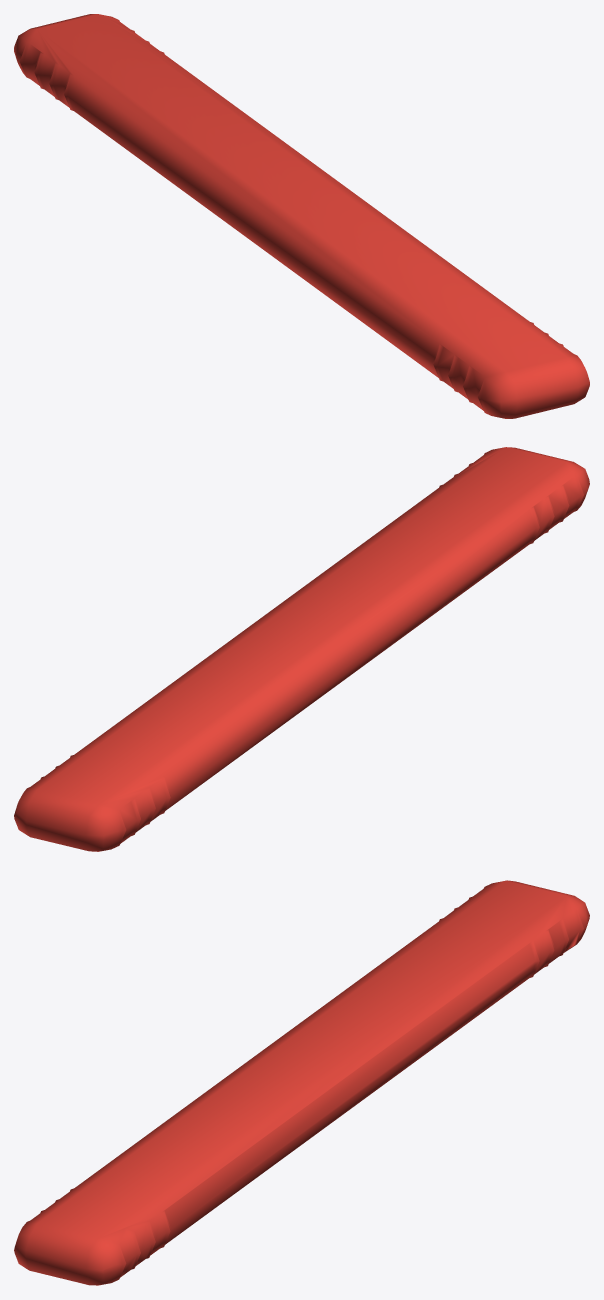
File: shore_spade_handle_lod2.glb
The picture shows the model from 3 angles, top to bottom: view 1: azimuth 30°, elevation 25°; view 2: azimuth 150°, elevation 25°; view 3: azimuth 330°, elevation 25°; orthographic projection.
Parts seen in each view (by area): view 1: shore_spade_handle.001; view 2: shore_spade_handle.001; view 3: shore_spade_handle.001.
Boxes of the visible parts, bbox=[...] form: shore_spade_handle.001: bbox=[14, 14, 589, 418]; shore_spade_handle.001: bbox=[14, 447, 589, 851]; shore_spade_handle.001: bbox=[14, 880, 589, 1285].
Size of the model in its own units: 3.75 by 1.58 by 30.
